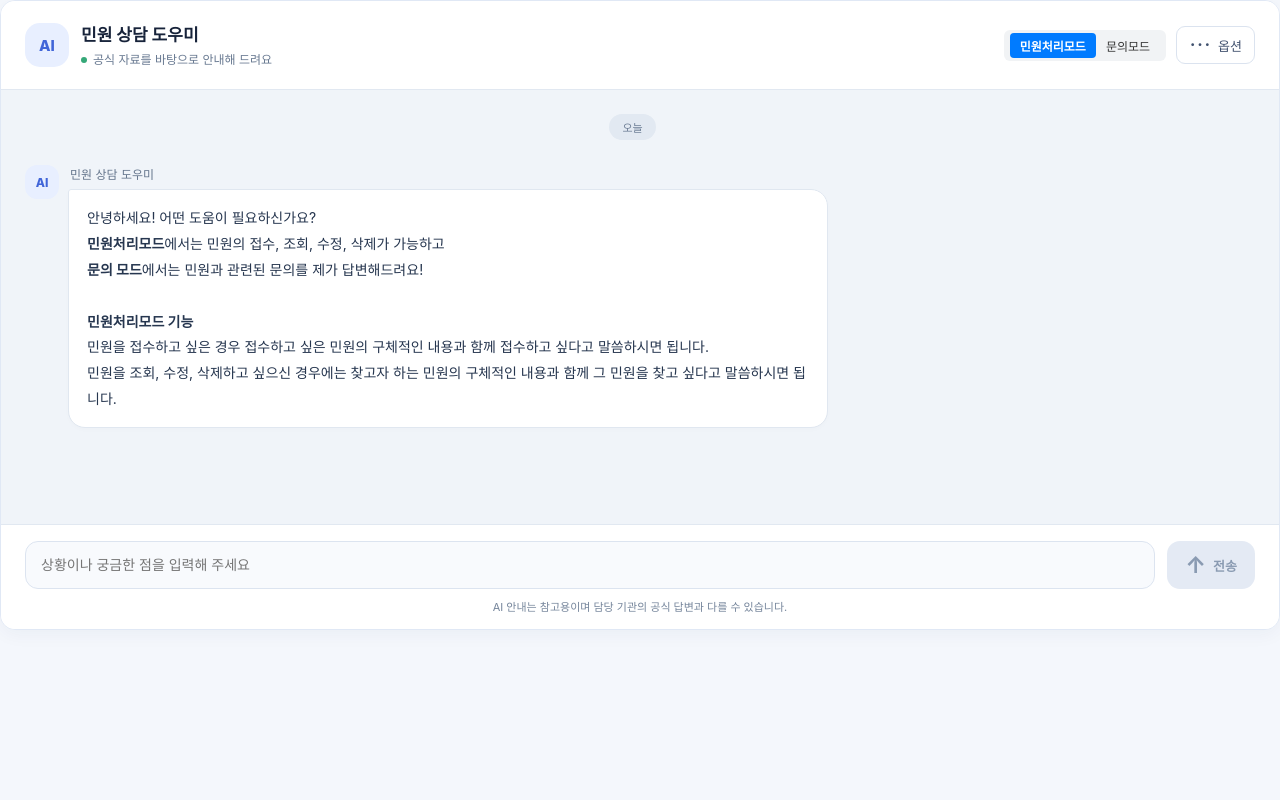
Test: doc-main의 기존 AI 채팅 계약 유지 › uses /api/chat and keeps consecutive answers visible
Type "첫 번째 질문" into the text box named "메시지" at [590, 565], box [25,541,1155,589]
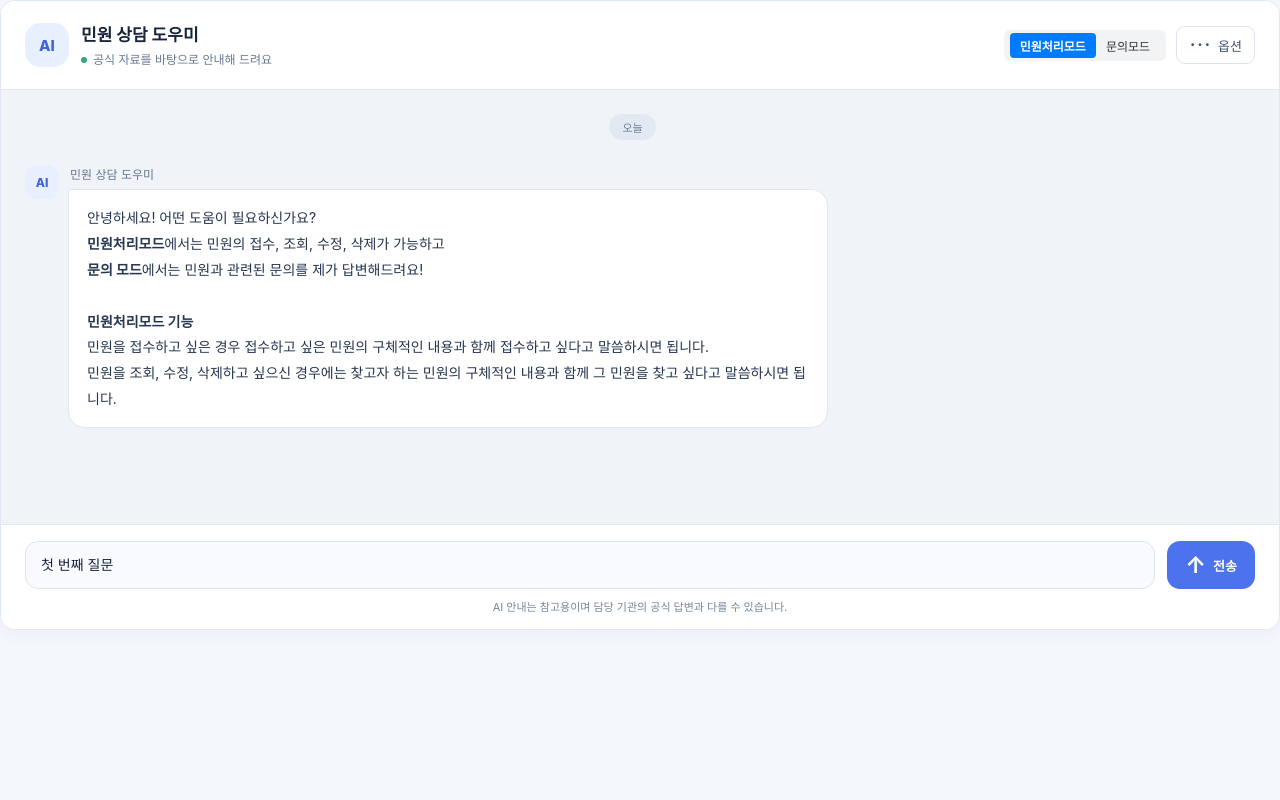
Click the button "↑ 전송" at [1211, 565], box [1167,541,1255,589]
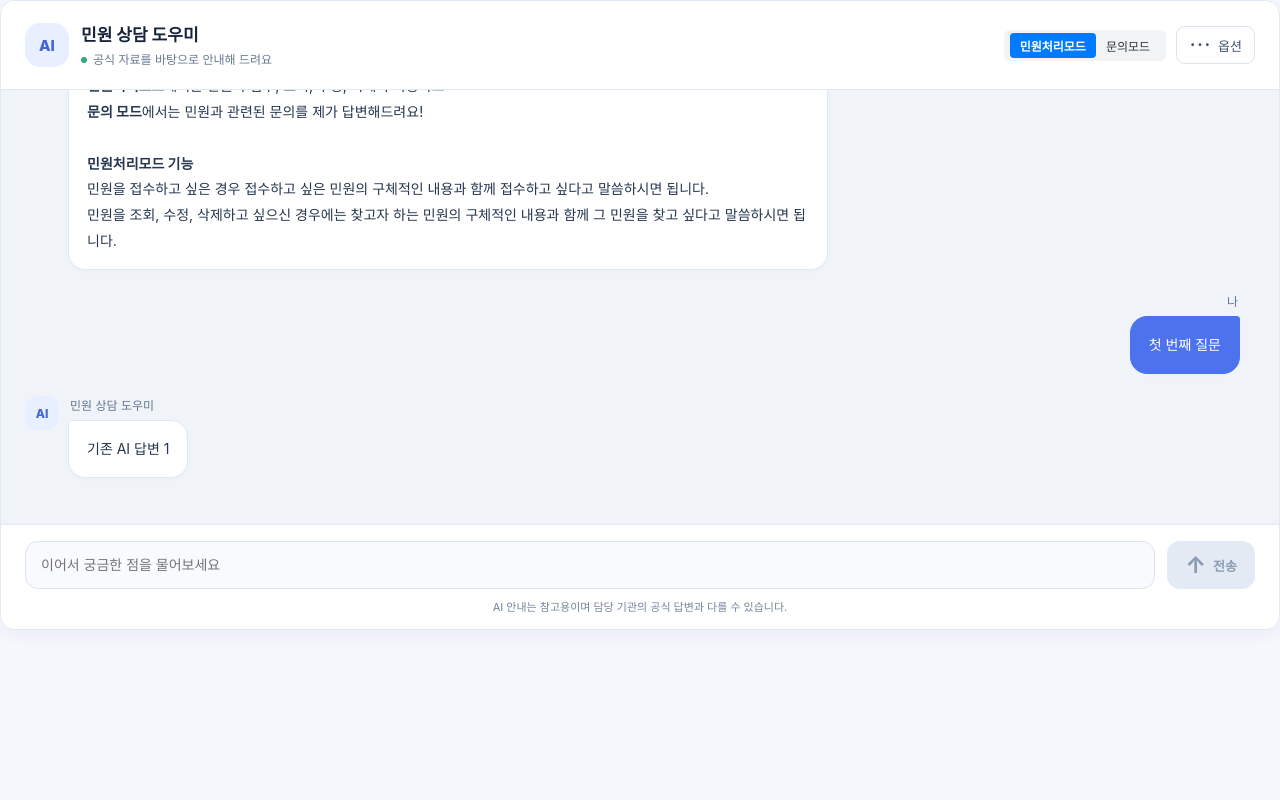
Result: the text "기존 AI 답변 1" is shown at [87,436,170,462]
Type "두 번째 질문" into the text box named "메시지" at [590, 565], box [25,541,1155,589]
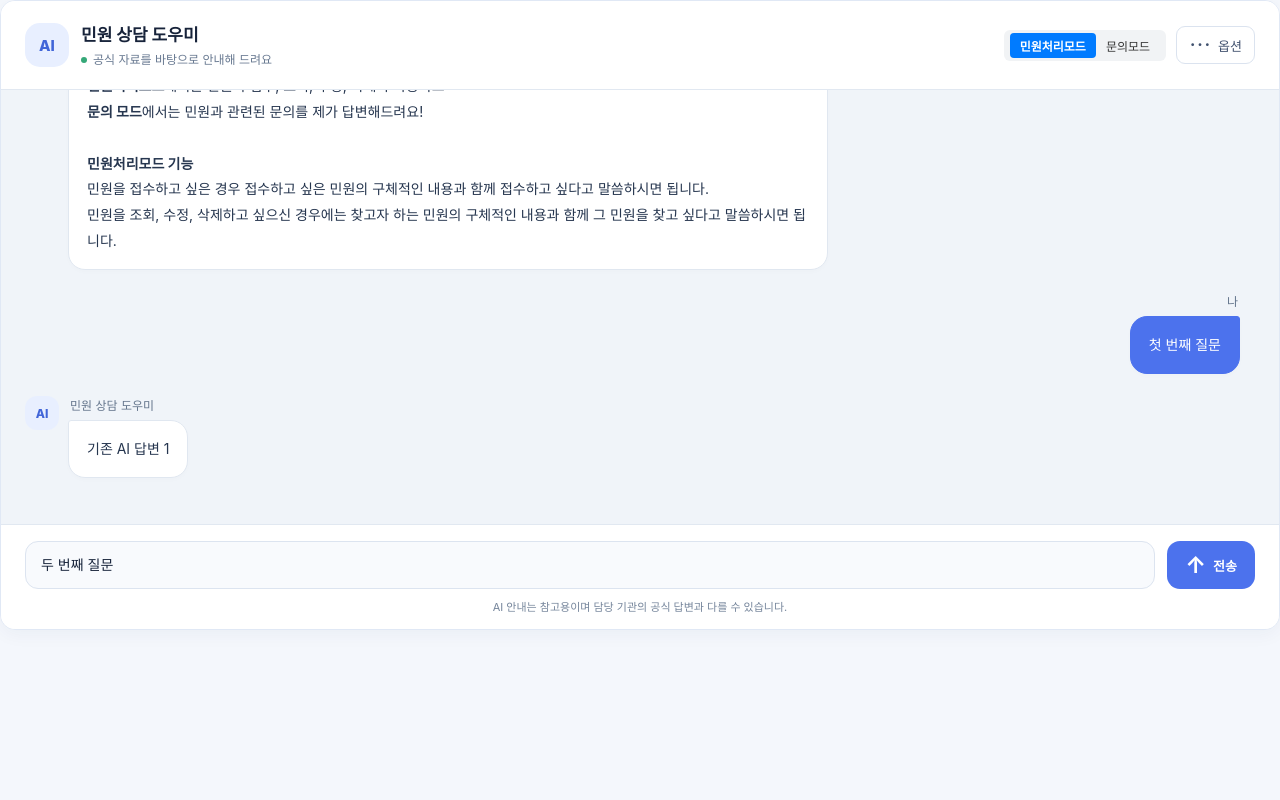
Click the button "↑ 전송" at [1211, 565], box [1167,541,1255,589]
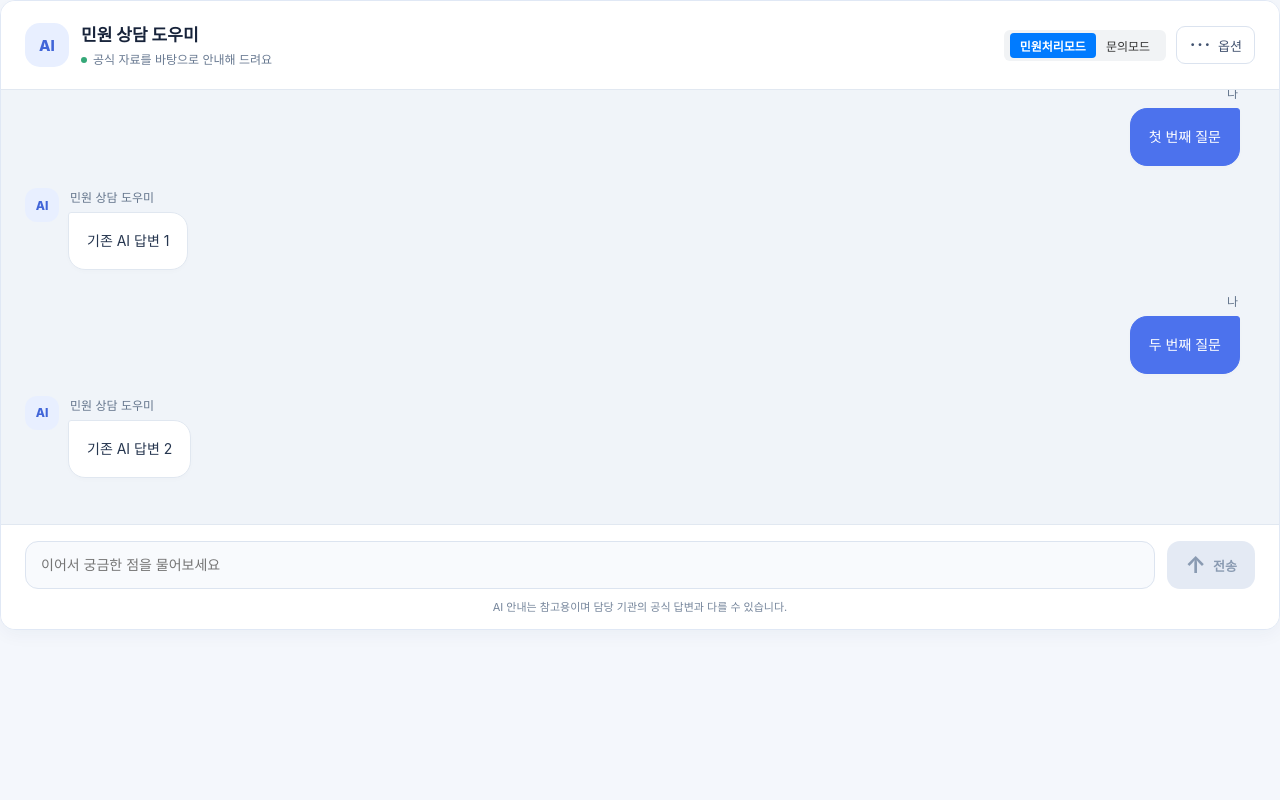
Result: the text "기존 AI 답변 1" is shown at [87,228,170,254]
Result: the text "기존 AI 답변 2" is shown at [87,436,172,462]
